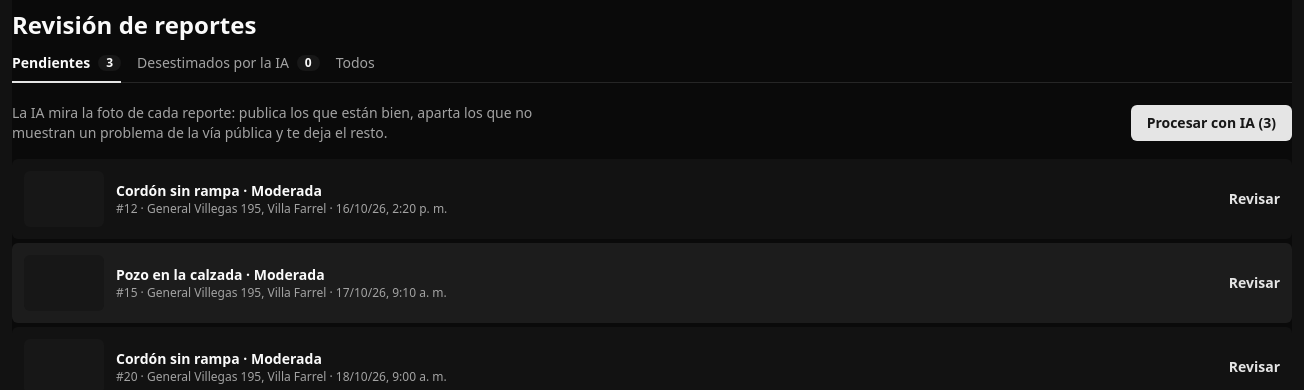
Test: procesar con IA › muestra en cada fila qué hizo la IA, con el motivo, y el resumen al terminar
The image size is (1304, 390).
(page scrolled)
Click the button "Procesar con IA (3)" at (1211, 123), box left=1131, top=105, right=1292, bottom=141
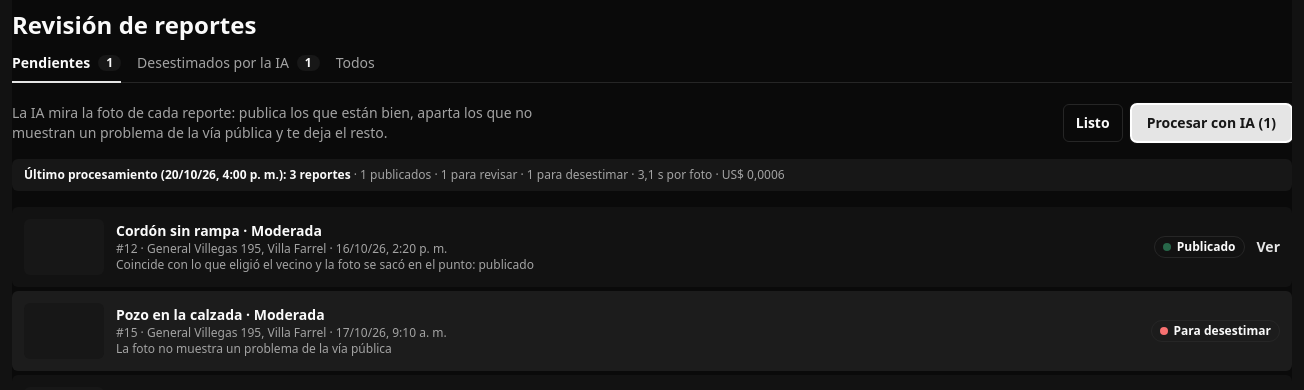
Result: the text "Publicado" is shown at left=1154, top=236, right=1245, bottom=258
Result: the text "Para desestimar" is shown at left=1151, top=320, right=1280, bottom=342
Result: the text "La foto no muestra un problema de la vía pública" is shown at left=116, top=340, right=392, bottom=357
# «Listo» saca de la vista lo que resolvió la IA.
Click the button "Listo" at (1093, 123), box left=1063, top=104, right=1123, bottom=142
(page scrolled)
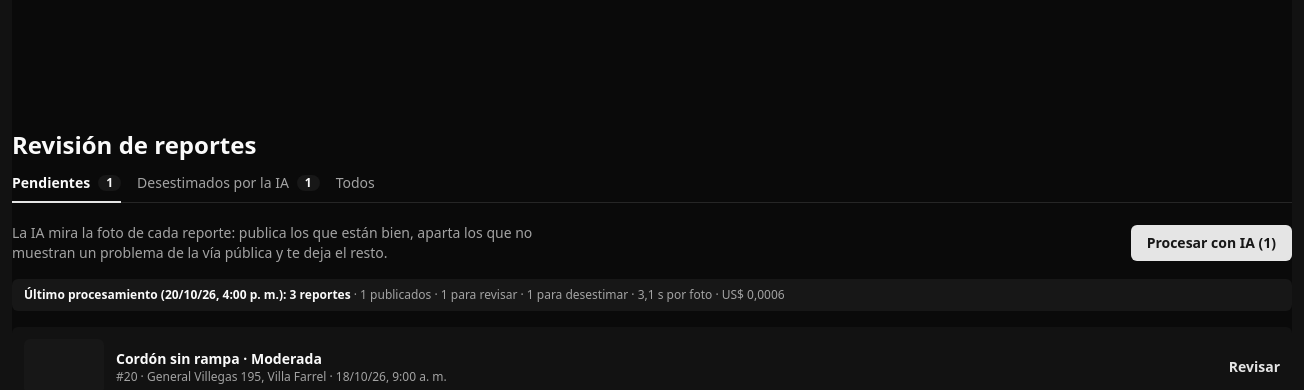
Result: the text "#12 ·" is gone
Result: the text "#15 ·" is gone
